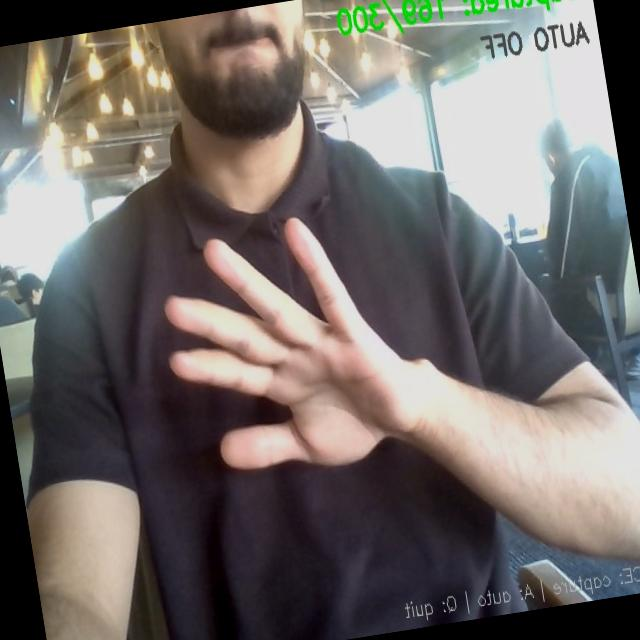Hand: (165, 219, 418, 468)
